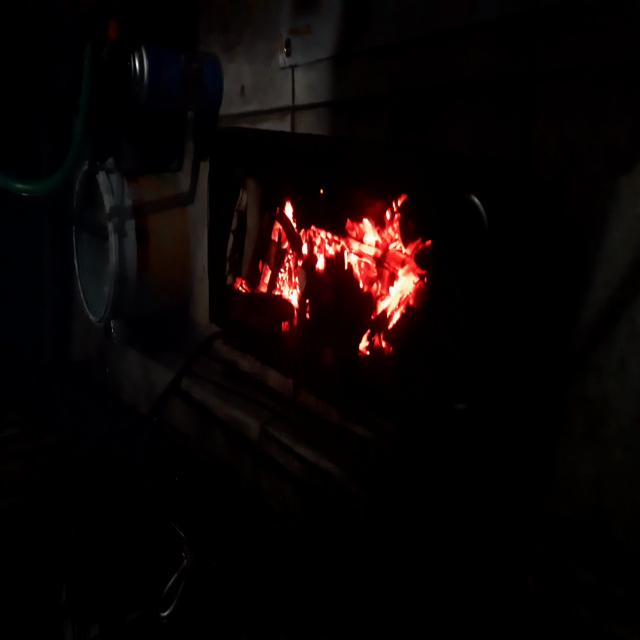Fire: (258, 172, 427, 381)
